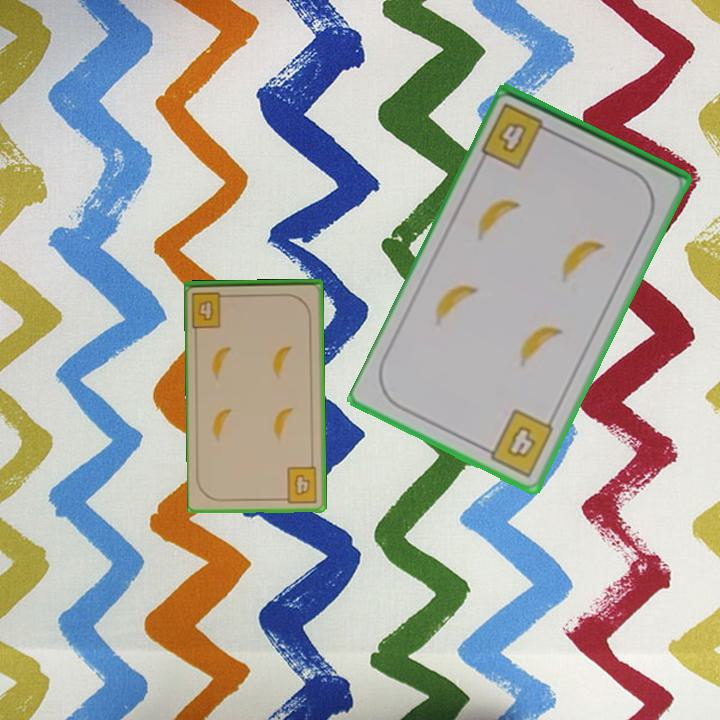4b: (478, 99, 559, 173), (479, 405, 557, 480), (277, 463, 320, 506), (189, 288, 233, 330)
